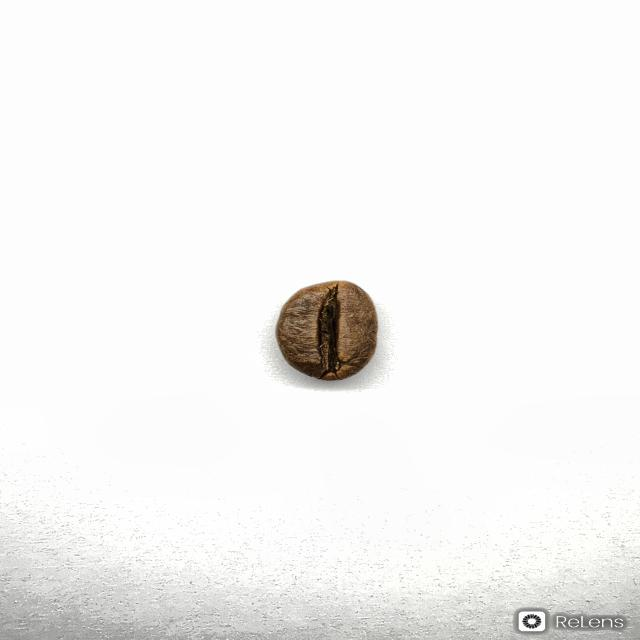Good bean: (274, 279, 379, 381)
